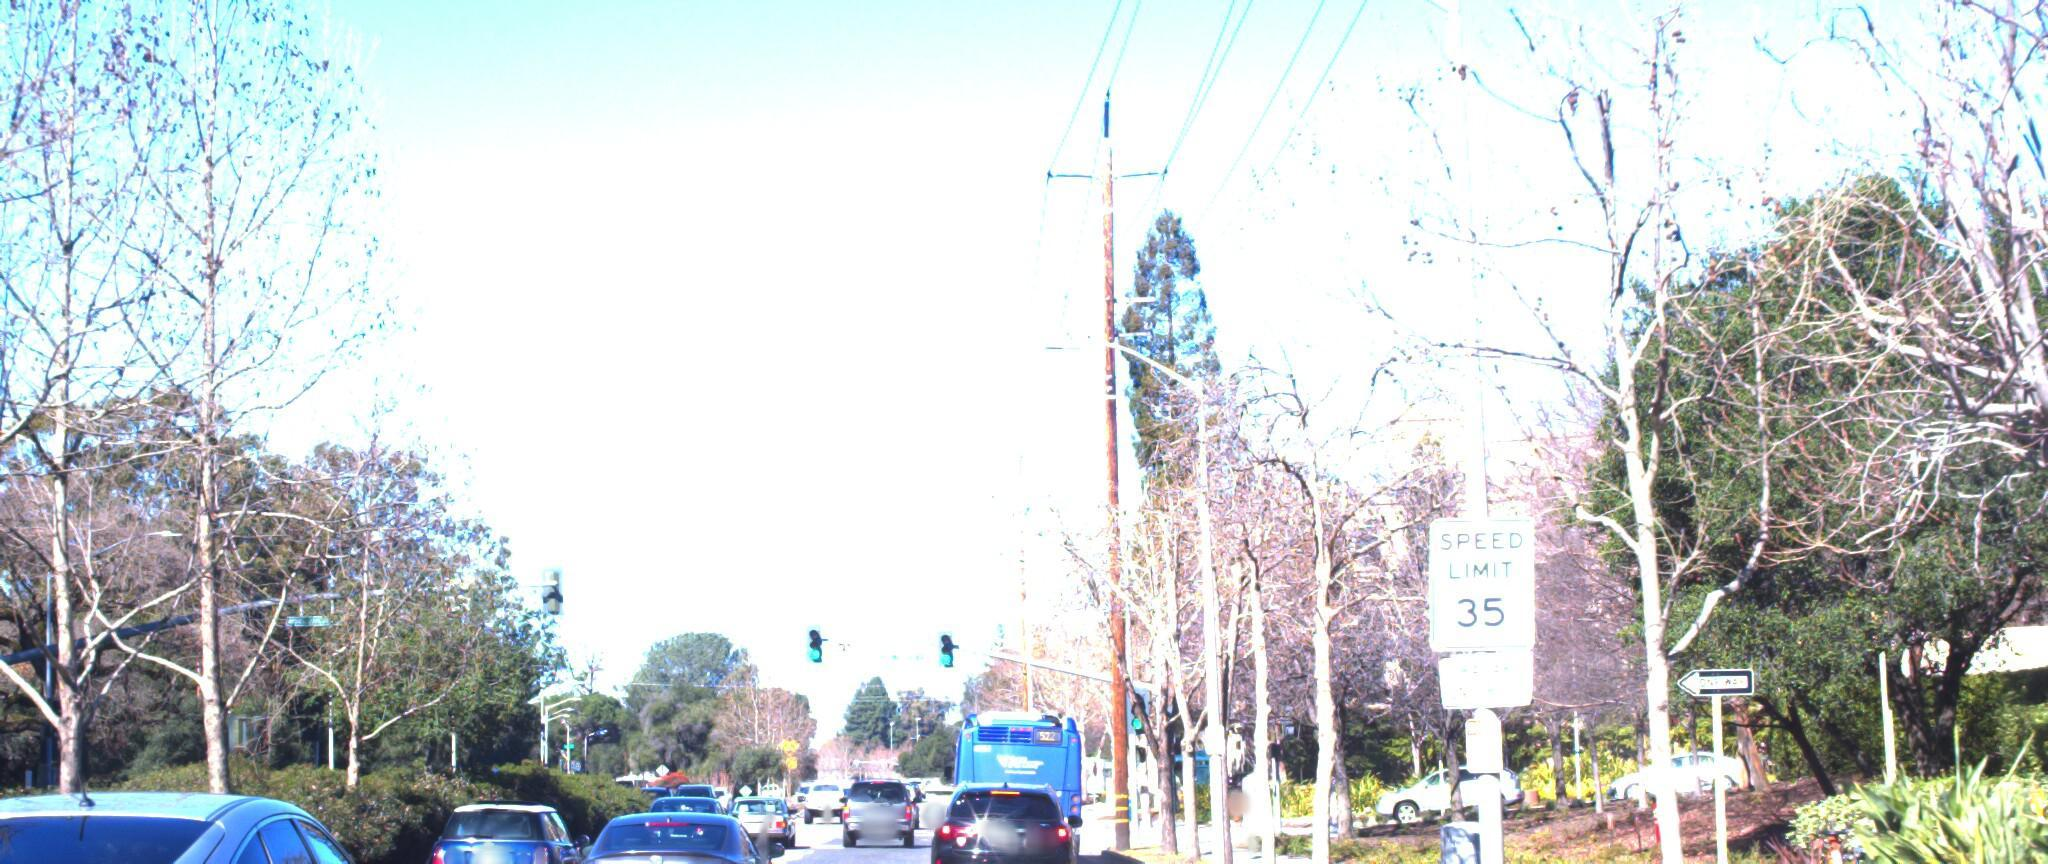bus: (935, 690, 1088, 859)
car: (0, 765, 466, 864), (556, 797, 788, 864), (920, 774, 1076, 864), (411, 788, 589, 864), (837, 774, 920, 844)
